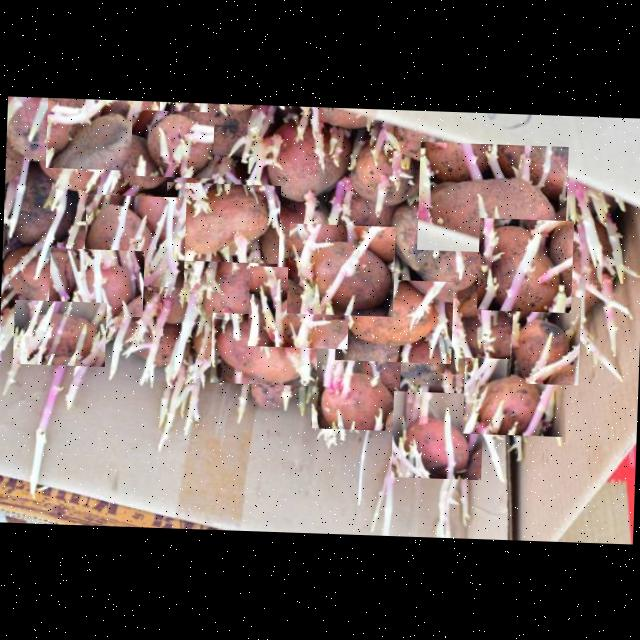Sprouted potato: (416, 142, 568, 255), (382, 200, 498, 324), (286, 222, 396, 316), (334, 277, 454, 363), (252, 120, 360, 212), (168, 184, 286, 266), (164, 182, 281, 264), (83, 194, 186, 287), (476, 218, 574, 312), (183, 250, 272, 348), (247, 266, 350, 348), (46, 98, 160, 172), (391, 390, 484, 480), (462, 358, 565, 437), (210, 312, 318, 386), (310, 346, 401, 431), (338, 133, 430, 215), (48, 248, 144, 316), (510, 295, 581, 385), (12, 299, 106, 366), (382, 334, 446, 426), (130, 109, 214, 178)
